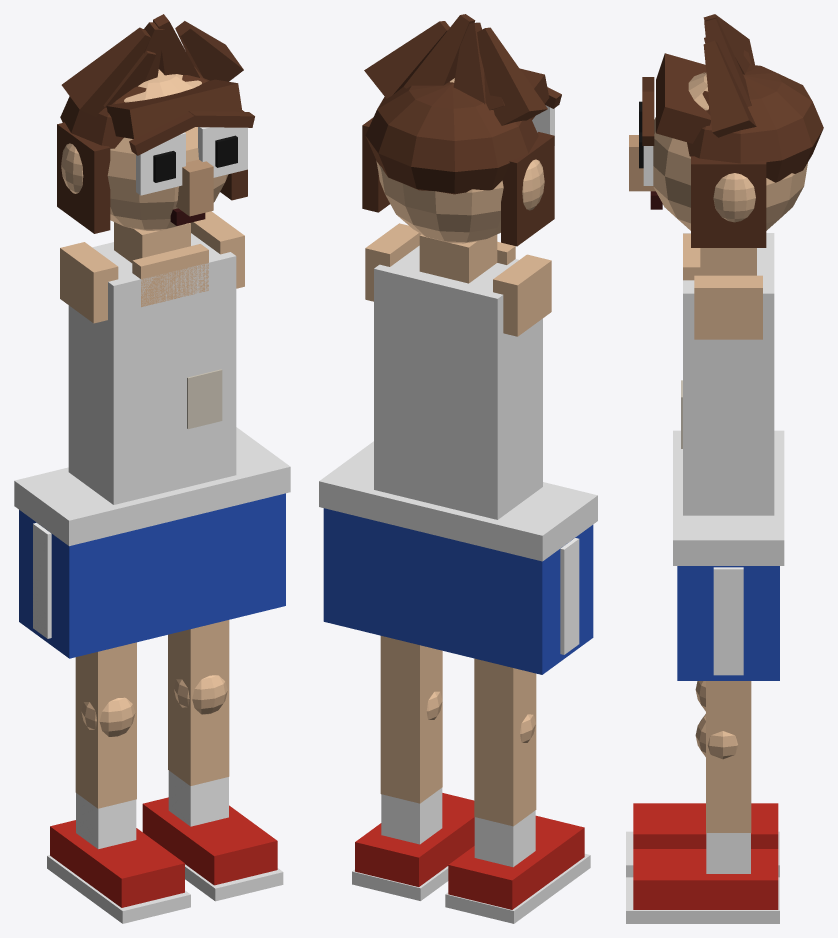
File: boxeador_torpe_body.obj
3 views of the same model, side by side, from view 1: azimuth 30°, elevation 25°; view 2: azimuth 150°, elevation 25°; view 3: azimuth 270°, elevation 25° (orthographic).
Parts seen in each view (by area): view 1: torso_camiseta, short, cintura, pierna_R, pierna_L, zapato_L, zapato_R, cabeza, flequillo, patilla_L, pecho_piel, hombro_piel_L (+25 smaller); view 2: torso_camiseta, short, pelo_base, cintura, pierna_R, pierna_L, zapato_L, zapato_R, cabeza, patilla_L, hombro_piel_L, pelo_mecho_0 (+12 smaller); view 3: torso_camiseta, short, pelo_base, zapato_R, cintura, pierna_R, patilla_R, cabeza, zapato_L, hombro_piel_R, flequillo, franja_R (+13 smaller).
Part boxes in pixels (x1,y1,x2,y2): torso_camiseta: (68, 233, 236, 504); short: (19, 493, 285, 658); cintura: (14, 427, 290, 546); pierna_R: (168, 620, 229, 785); pierna_L: (75, 642, 136, 808); zapato_L: (50, 820, 184, 907); zapato_R: (142, 797, 277, 885); cabeza: (107, 69, 228, 230); flequillo: (106, 79, 242, 138); patilla_L: (57, 122, 110, 233); pecho_piel: (132, 244, 208, 307); hombro_piel_L: (60, 242, 118, 323); torso_camiseta: (374, 245, 542, 519); short: (323, 508, 593, 674); pelo_base: (365, 82, 538, 194); cintura: (319, 441, 597, 561); pierna_R: (380, 636, 442, 803); pierna_L: (474, 658, 536, 826); zapato_L: (448, 815, 584, 909); zapato_R: (355, 793, 474, 886); cabeza: (376, 78, 503, 243); patilla_L: (501, 132, 554, 246); hombro_piel_L: (493, 254, 551, 336); pelo_mecho_0: (477, 27, 547, 125); torso_camiseta: (683, 233, 774, 515); short: (677, 566, 779, 680); pelo_base: (687, 64, 823, 182); zapato_R: (633, 849, 778, 909); cintura: (673, 430, 784, 565); pierna_R: (706, 681, 751, 832); patilla_R: (691, 156, 766, 247); cabeza: (653, 72, 807, 230); zapato_L: (633, 803, 778, 848); hombro_piel_R: (694, 275, 762, 339); flequillo: (656, 53, 710, 143); franja_R: (713, 567, 743, 675).
Size of the model in its own units: 0.922 by 3.36 by 0.6943.
